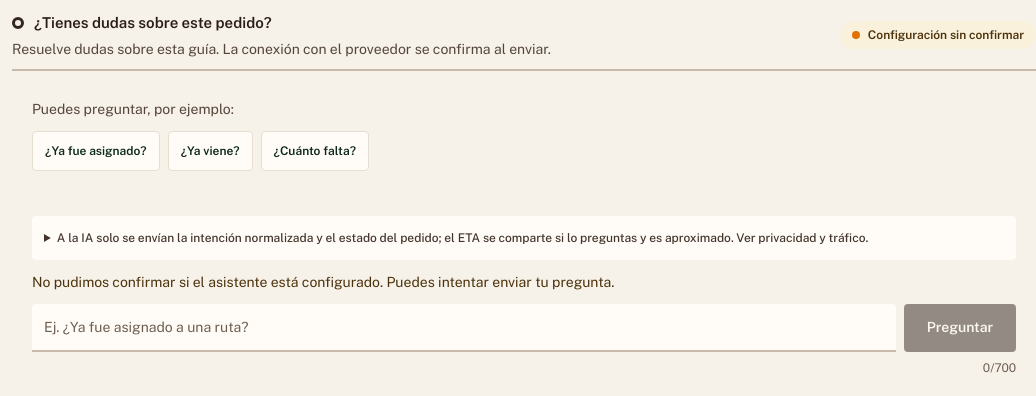
Test: CustomerOrderChat › allows a chat attempt when the availability check itself fails
Expected: the text "No pudimos confirmar si el asistente está configurado. Puedes intentar enviar tu pregunta." is shown, [32,274,614,290]
Step 1. Type "¿Ya viene?" into the field named "Escribe tu pregunta sobre el pedido" → (464, 328), box [32,304,896,352]
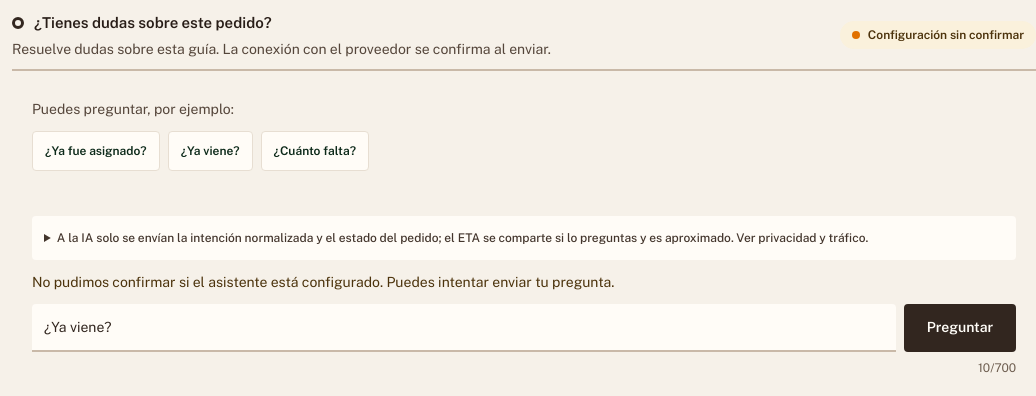
Step 2. Click the button "Preguntar" → click(960, 328), box [904,304,1016,352]
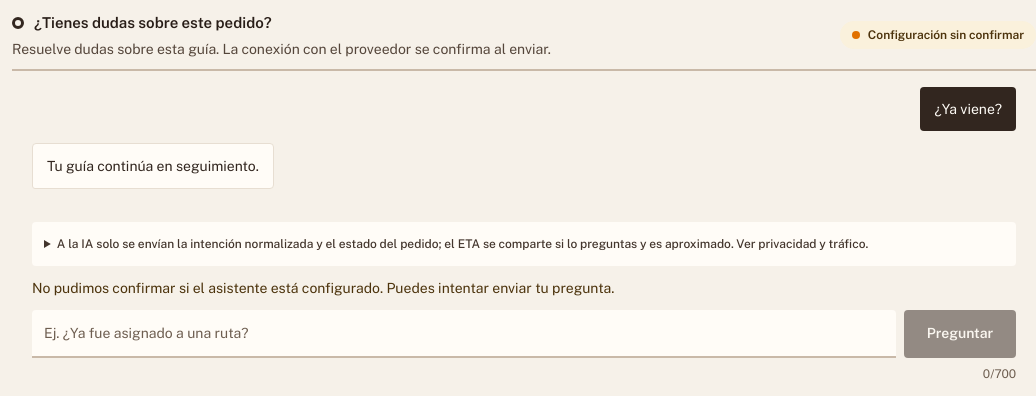
Expected: the text "Tu guía continúa en seguimiento." is shown, [32,142,274,188]
